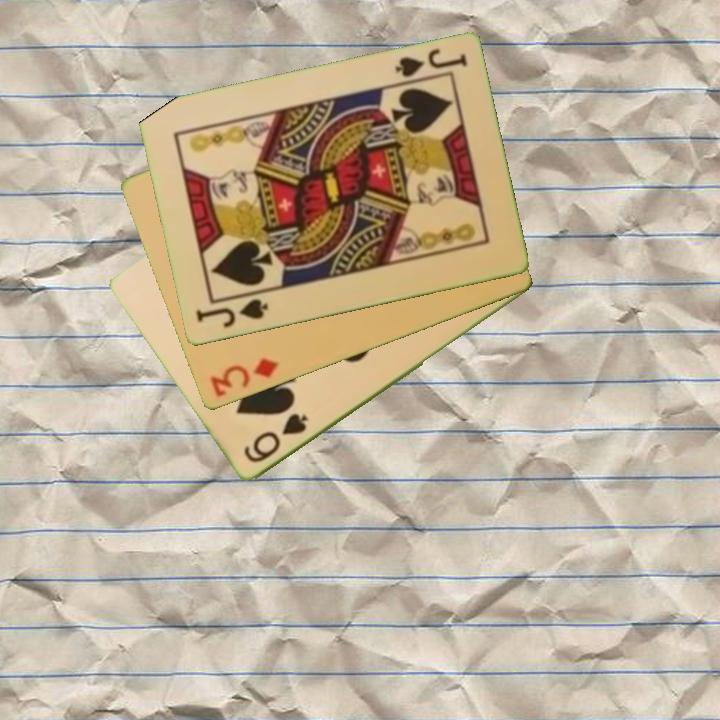3d: (206, 355, 282, 401)
6s: (239, 410, 311, 467)
Js: (192, 295, 271, 331), (391, 45, 470, 81)
